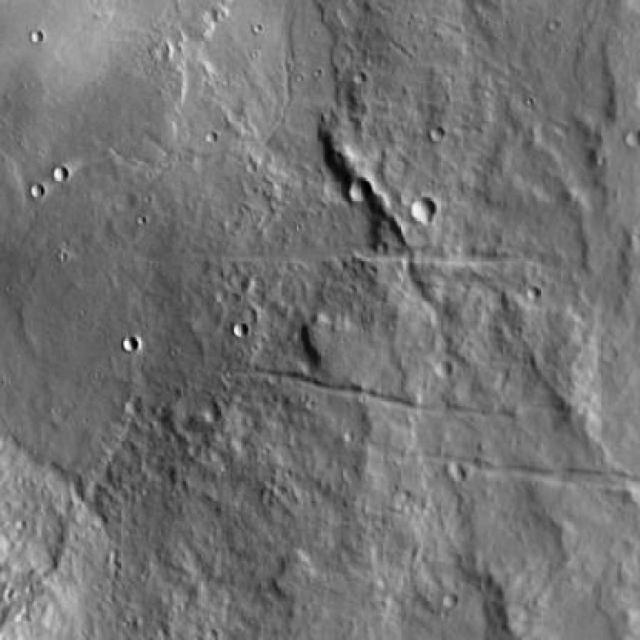crater: (394, 194, 420, 220), (330, 175, 355, 200), (438, 456, 457, 475), (617, 124, 635, 142), (109, 330, 126, 348), (426, 355, 442, 371)
